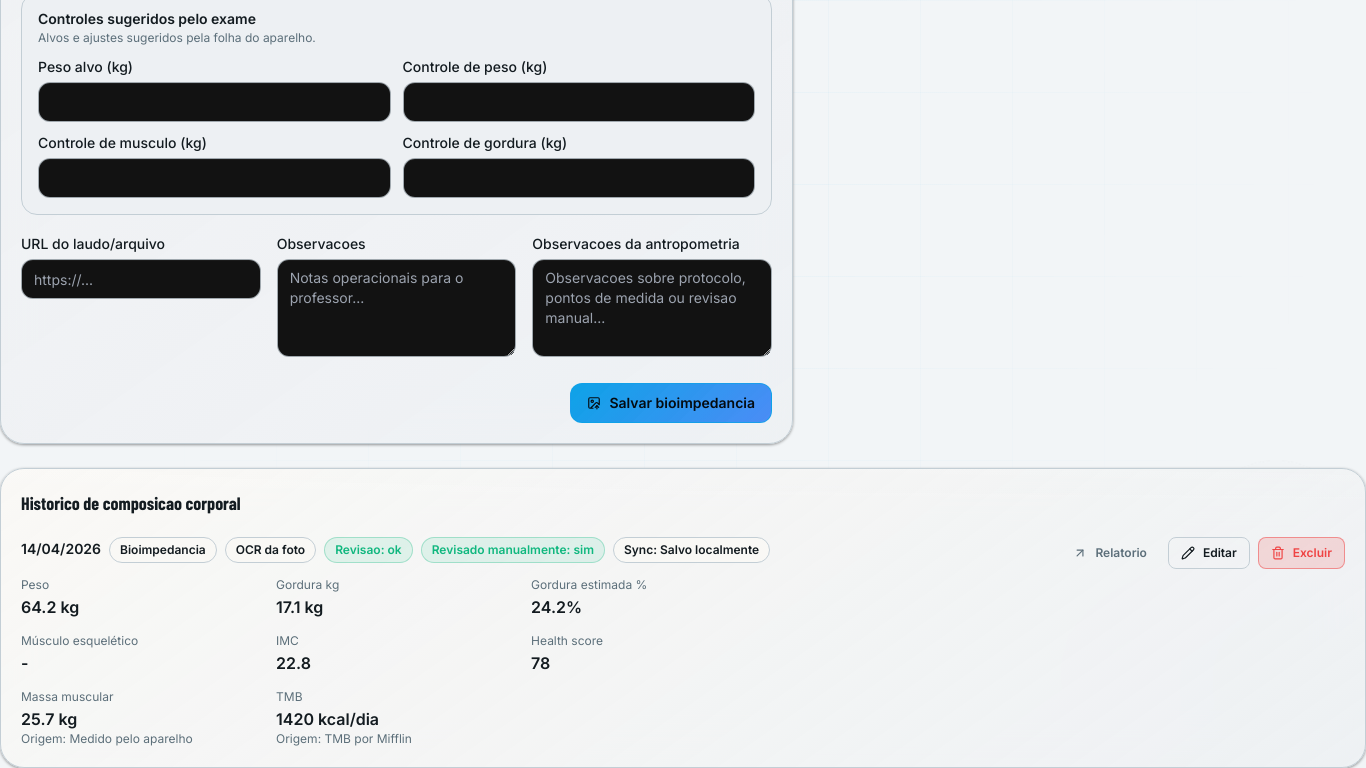
Test: MemberBodyCompositionTab › deletes a bioimpedance evaluation only after explicit confirmation
(page scrolled)
Click the button "Excluir": point(1301, 553) [1258,537,1345,569]
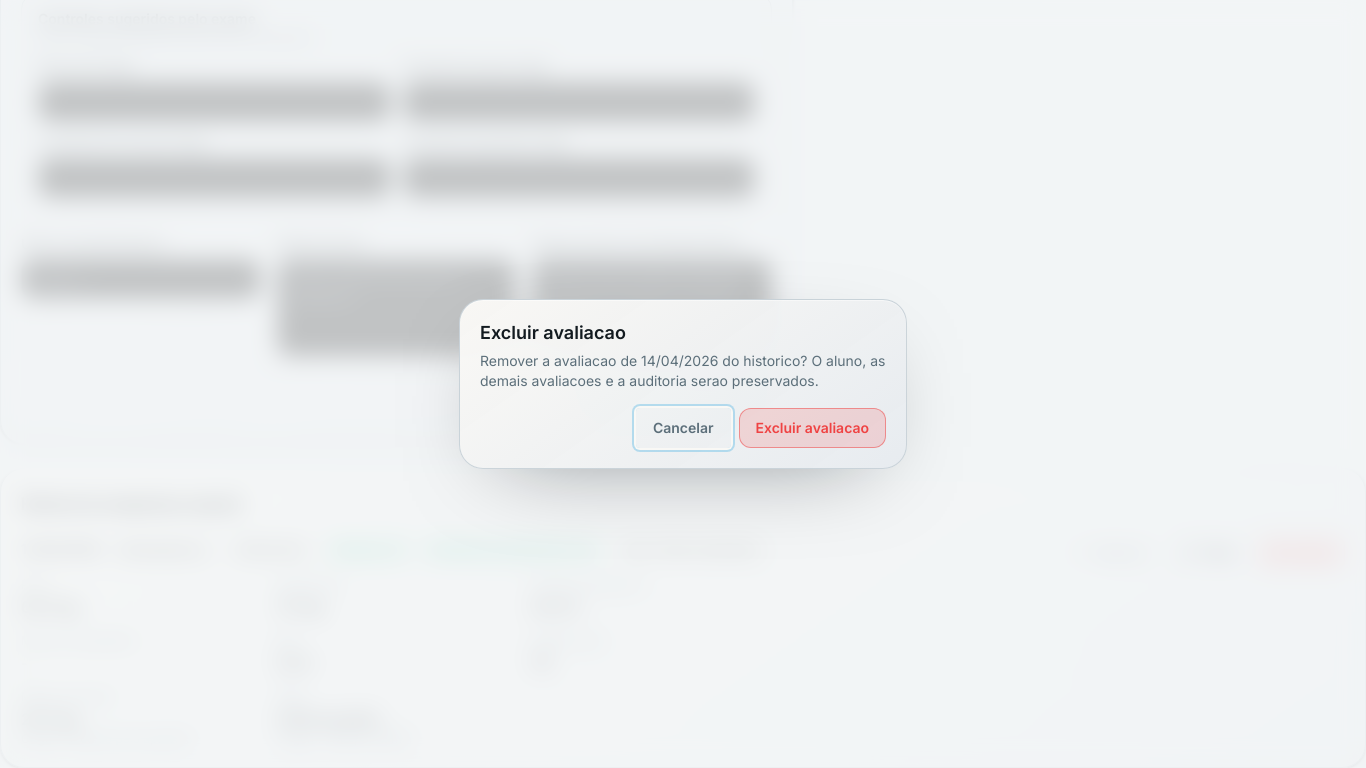
Expected: the dialog "Excluir avaliacao" is shown, [459,299,907,469]
Expected: the text "auditoria serao preservados" is shown, [480,353,886,390]
Click the button "Excluir avaliacao": point(812, 428) [738,408,886,448]
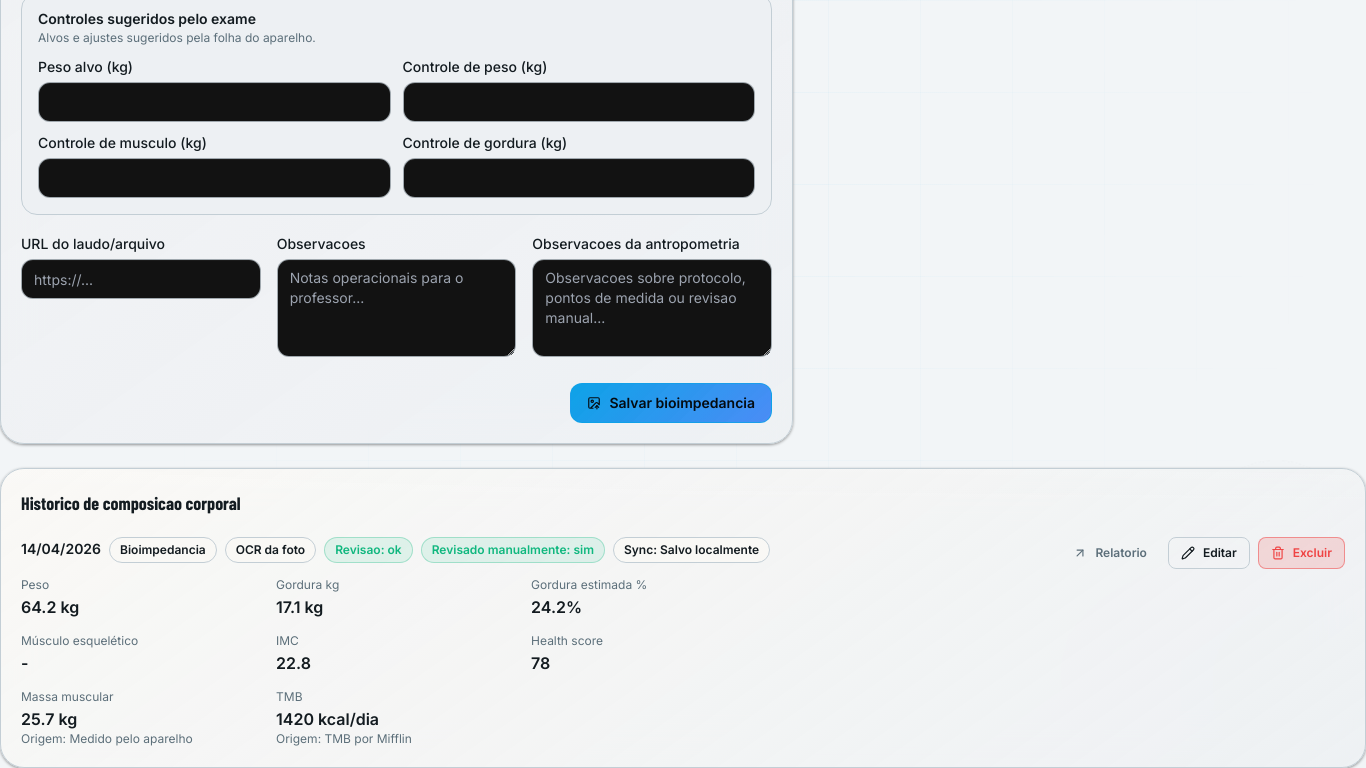
Expected: the heading "Excluir avaliacao" is gone
